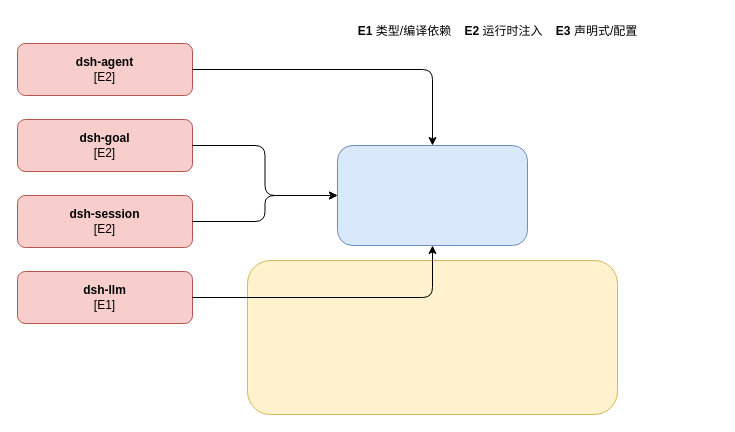
Some shapes in this 735 by 432 pixel diagram are drawn without their labels. Here are the shapes that lost their labels. From the top down, the box of each, then its label:
(336, 144, 528, 246): dsh-goal-round-driver G17 目标计划
(246, 260, 618, 414): provides · goal round 自动续跑调度 · agent/pre-step 续跑校验(reject) · goal-round 消息源
